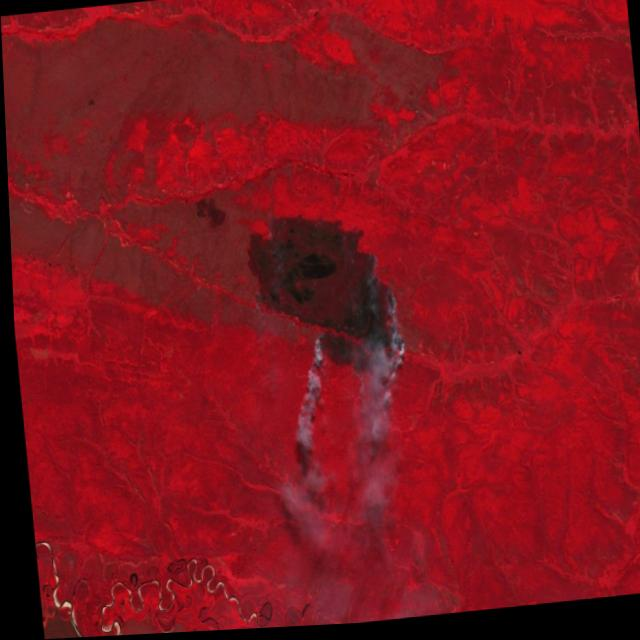fire: (303, 250, 407, 395), (260, 211, 286, 247), (245, 287, 265, 315)
